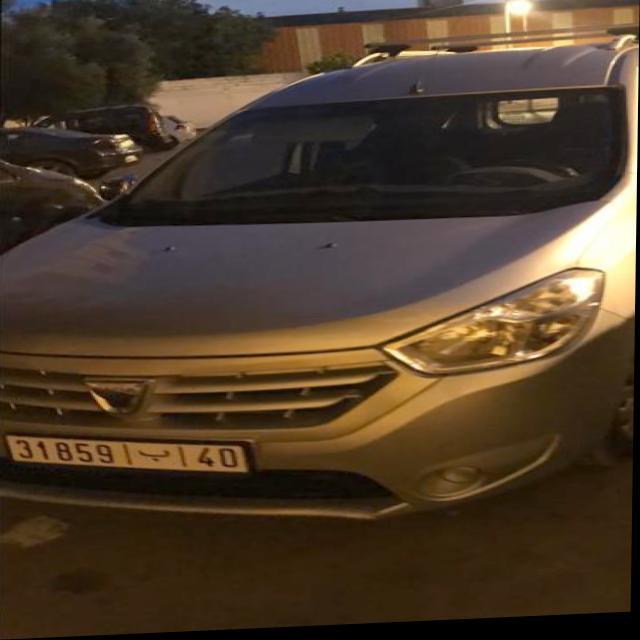License-Plate: (8, 436, 250, 474)
